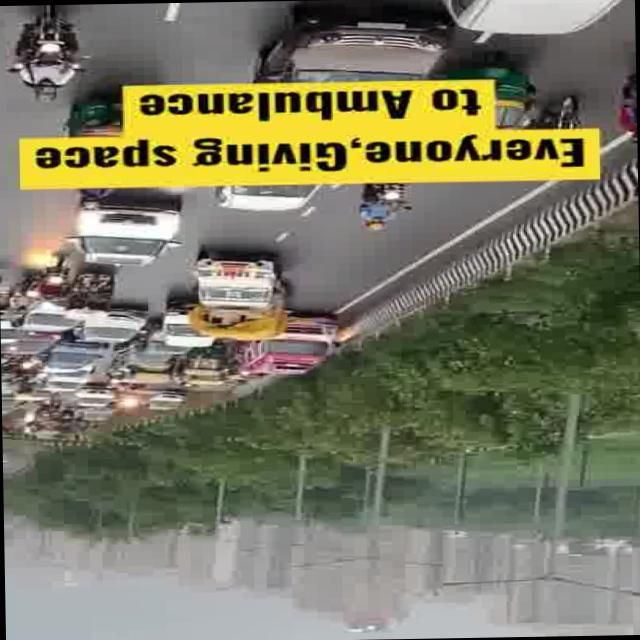ambulance: (238, 318, 336, 376)
